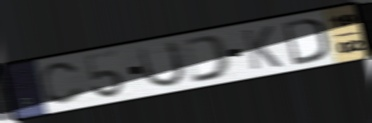5: (83, 47, 128, 100)
C: (39, 59, 85, 106)
D: (181, 33, 234, 85), (281, 16, 330, 67)
K: (240, 24, 285, 72)
U: (136, 39, 188, 90)
